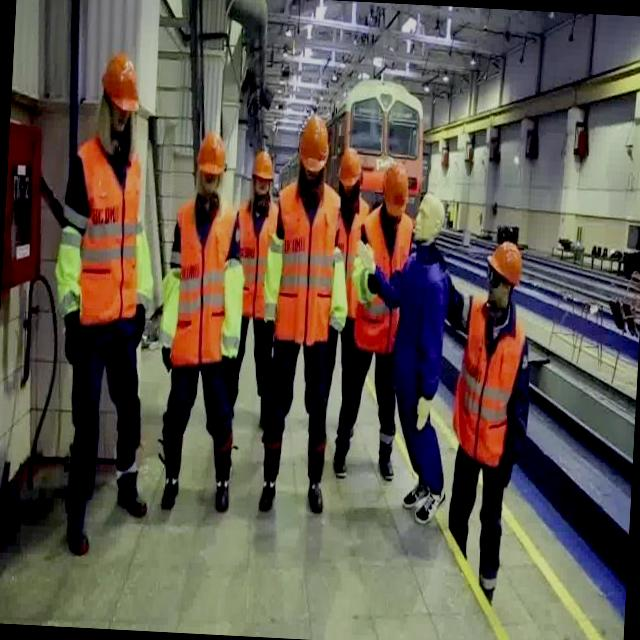vest: (68, 136, 144, 324), (451, 294, 528, 470), (169, 198, 238, 370), (272, 180, 340, 346), (355, 204, 415, 357), (234, 192, 280, 317), (332, 196, 369, 318)
